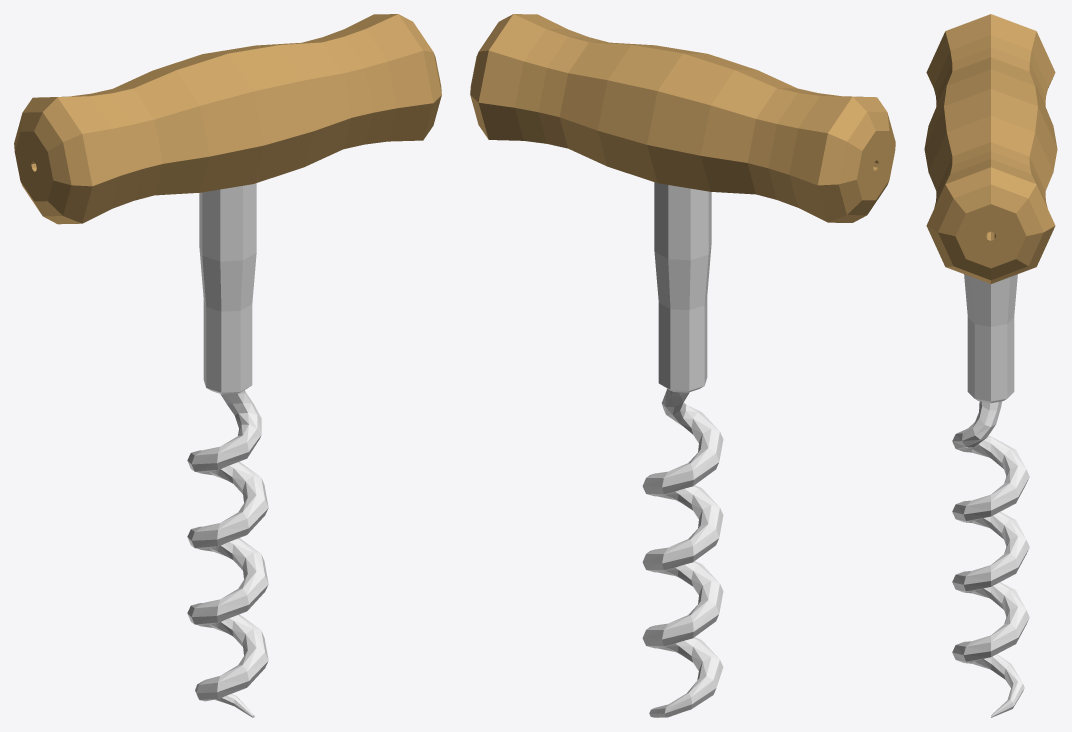
Rendered from e7a159ee-5847-41ad-8b06-b567a3eba823.glb.
The picture shows the model from 3 angles, left to right: view 1: azimuth 30°, elevation 25°; view 2: azimuth 150°, elevation 25°; view 3: azimuth 270°, elevation 25°; orthographic projection. The views are drawn at different scales.
Parts seen in each view (by area): view 1: Node; view 2: Node; view 3: Node.
Part boxes in pixels (left/top/right/bottom): Node: left=14, top=14, right=441, bottom=717; Node: left=470, top=14, right=895, bottom=717; Node: left=924, top=14, right=1057, bottom=717.
Bounding box in the file's own units: 5.31 × 8.78 × 1.71.
